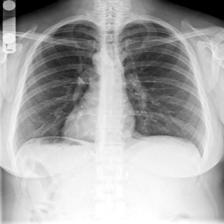normal: (11, 14, 209, 160)
